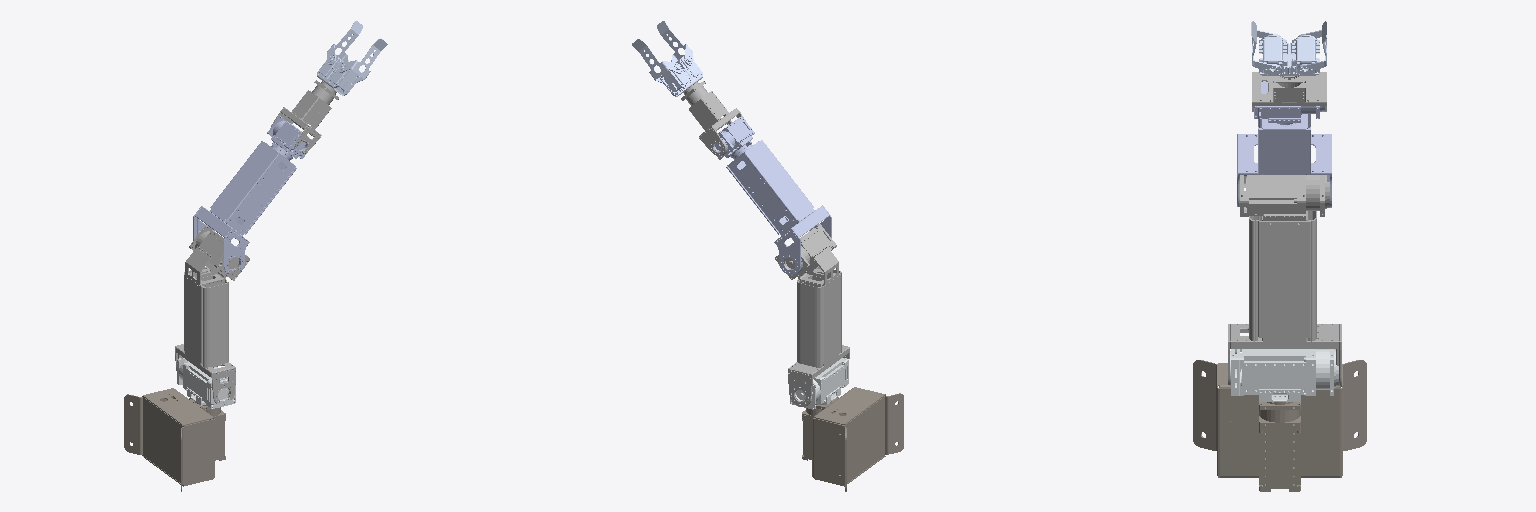
The robot description file, URDF, robot "h_arm_urdf":
<robot
  name="h_arm_urdf">
  <link
    name="arm_base_link">
    <inertial>
      <origin
        xyz="-0.025341 -0.00015693 0.00087354"
        rpy="0 0 0" />
      <mass
        value="1.6075" />
      <inertia
        ixx="0.0079143"
        ixy="-1.2323E-06"
        ixz="9.2385E-05"
        iyy="0.0053506"
        iyz="-7.6719E-06"
        izz="0.0072753" />
    </inertial>
    <visual>
      <origin
        xyz="0 0 0"
        rpy="0 0 0" />
      <geometry>
        <mesh
          filename="package://robotican_description/robot_arms/h_arm_urdfV3/meshes/arm_base_link.STL" />
      </geometry>
      <material
        name="">
        <color
          rgba="0.64706 0.61961 0.58824 1" />
      </material>
    </visual>
    <collision>
      <origin
        xyz="0 0 0"
        rpy="0 0 0" />
      <geometry>
        <mesh
          filename="package://robotican_description/robot_arms/h_arm_urdfV3/meshes/arm_base_link.STL" />
      </geometry>
    </collision>
  </link>
  <link
    name="arm_rotation1_link">
    <inertial>
      <origin
        xyz="-3.5191E-10 0.0073117 0.067899"
        rpy="0 0 0" />
      <mass
        value="0.35317" />
      <inertia
        ixx="0.00055596"
        ixy="9.2617E-12"
        ixz="9.2232E-12"
        iyy="0.00016945"
        iyz="6.1918E-06"
        izz="0.00055286" />
    </inertial>
    <visual>
      <origin
        xyz="0 0 0"
        rpy="0 0 0" />
      <geometry>
        <mesh
          filename="package://robotican_description/robot_arms/h_arm_urdfV3/meshes/arm_rotation1_link.STL" />
      </geometry>
      <material
        name="">
        <color
          rgba="0.89804 0.91765 0.92941 1" />
      </material>
    </visual>
    <collision>
      <origin
        xyz="0 0 0"
        rpy="0 0 0" />
      <geometry>
        <mesh
          filename="package://robotican_description/robot_arms/h_arm_urdfV3/meshes/arm_rotation1_link.STL" />
      </geometry>
    </collision>
  </link>
  <joint
    name="arm_rotation1_joint"
    type="revolute">
    <origin
      xyz="0.027 0 0.033"
      rpy="0 0 0" />
    <parent
      link="arm_base_link" />
    <child
      link="arm_rotation1_link" />
    <axis
      xyz="0 0 1" />
    <limit
      effort="0"
      velocity="0"
      lower="-1.57"
      upper="1.57"
     />
  </joint>
  <link
    name="arm_shoulder1_link">
    <inertial>
      <origin
        xyz="0.01628 -0.032683 0.20044"
        rpy="0 0 0" />
      <mass
        value="0.52217" />
      <inertia
        ixx="0.00437"
        ixy="-9.87E-07"
        ixz="0.00053636"
        iyy="0.0041046"
        iyz="-4.3615E-05"
        izz="0.00082919" />
    </inertial>
    <visual>
      <origin
        xyz="0 0 0"
        rpy="0 0 0" />
      <geometry>
        <mesh
          filename="package://robotican_description/robot_arms/h_arm_urdfV3/meshes/arm_shoulder1_link.STL" />
      </geometry>
      <material
        name="">
        <color
          rgba="0.75294 0.75294 0.75294 1" />
      </material>
    </visual>
    <collision>
      <origin
        xyz="0 0 0"
        rpy="0 0 0" />
      <geometry>
        <mesh
          filename="package://robotican_description/robot_arms/h_arm_urdfV3/meshes/arm_shoulder1_link.STL" />
      </geometry>
    </collision>
  </link>
  <joint
    name="arm_shoulder1_joint"
    type="revolute">
    <origin
      xyz="0 0.039 0.069"
      rpy="0 0 0" />
    <parent
      link="arm_rotation1_link" />
    <child
      link="arm_shoulder1_link" />
    <axis
      xyz="0 1 0" />
    <limit
      lower="0"
      upper="1.57"
      effort="0"
      velocity="0" />
  </joint>
  <link
    name="arm_shoulder2_link">
    <inertial>
      <origin
        xyz="-0.029807 -0.020675 0.12921"
        rpy="0 0 0" />
      <mass
        value="0.44964" />
      <inertia
        ixx="0.0013957"
        ixy="2.2944E-06"
        ixz="-9.6791E-06"
        iyy="0.0013155"
        iyz="-1.6943E-05"
        izz="0.0003579" />
    </inertial>
    <visual>
      <origin
        xyz="0 0 0"
        rpy="0 0 0" />
      <geometry>
        <mesh
          filename="package://robotican_description/robot_arms/h_arm_urdfV3/meshes/arm_shoulder2_link.STL" />
      </geometry>
      <material
        name="">
        <color
          rgba="0.79216 0.81961 0.93333 1" />
      </material>
    </visual>
    <collision>
      <origin
        xyz="0 0 0"
        rpy="0 0 0" />
      <geometry>
        <mesh
          filename="package://robotican_description/robot_arms/h_arm_urdfV3/meshes/arm_shoulder2_link.STL" />
      </geometry>
    </collision>
  </link>
  <joint
    name="arm_shoulder2_joint"
    type="revolute">
    <origin
      xyz="0.029998 -0.012 0.264"
      rpy="0 0.7853981634 0" />
    <parent
      link="arm_shoulder1_link" />
    <child
      link="arm_shoulder2_link" />
    <axis
      xyz="0 1 0" />
    <limit
      lower="-0.65"
      upper="2.3522"
      effort="0"
      velocity="0" />
  </joint>
  <link
    name="arm_rotation2_link">
    <inertial>
      <origin
        xyz="1.2931E-08 0.0043427 0.097839"
        rpy="0 0 0" />
      <mass
        value="0.14367" />
      <inertia
        ixx="0.00010361"
        ixy="-8.012E-11"
        ixz="2.2317E-12"
        iyy="4.3409E-05"
        iyz="1.1487E-06"
        izz="0.00010218" />
    </inertial>
    <visual>
      <origin
        xyz="0 0 0"
        rpy="0 0 0" />
      <geometry>
        <mesh
          filename="package://robotican_description/robot_arms/h_arm_urdfV3/meshes/arm_rotation2_link.STL" />
      </geometry>
      <material
        name="">
        <color
          rgba="0.79216 0.81961 0.93333 1" />
      </material>
    </visual>
    <collision>
      <origin
        xyz="0 0 0"
        rpy="0 0 0" />
      <geometry>
        <mesh
          filename="package://robotican_description/robot_arms/h_arm_urdfV3/meshes/arm_rotation2_link.STL" />
      </geometry>
    </collision>
  </link>
  <joint
    name="arm_rotation2_joint"
    type="revolute">
    <origin
      xyz="-0.03 -0.021 0.159"
      rpy="0 0 0" />
    <parent
      link="arm_shoulder2_link" />
    <child
      link="arm_rotation2_link" />
    <axis
      xyz="0 0 1" />
    <limit
      lower="-3.14"
      upper="3.14"
      effort="0"
      velocity="0" />
  </joint>
  <link
    name="arm_shoulder3_link">
    <inertial>
      <origin
        xyz="3.9349E-11 -0.044252 0.069689"
        rpy="0 0 0" />
      <mass
        value="0.15954" />
      <inertia
        ixx="0.00018198"
        ixy="2.101E-13"
        ixz="-2.3374E-13"
        iyy="0.00015335"
        iyz="-5.6341E-06"
        izz="7.5641E-05" />
    </inertial>
    <visual>
      <origin
        xyz="0 0 0"
        rpy="0 0 0" />
      <geometry>
        <mesh
          filename="package://robotican_description/robot_arms/h_arm_urdfV3/meshes/arm_shoulder3_link.STL" />
      </geometry>
      <material
        name="">
        <color
          rgba="0.75294 0.75294 0.75294 1" />
      </material>
    </visual>
    <collision>
      <origin
        xyz="0 0 0"
        rpy="0 0 0" />
      <geometry>
        <mesh
          filename="package://robotican_description/robot_arms/h_arm_urdfV3/meshes/arm_shoulder3_link.STL" />
      </geometry>
    </collision>
  </link>
  <joint
    name="arm_shoulder3_joint"
    type="revolute">
    <origin
      xyz="0 0.051 0.099"
      rpy="0 0 0" />
    <parent
      link="arm_rotation2_link" />
    <child
      link="arm_shoulder3_link" />
    <axis
      xyz="0 1 0" />
    <limit
      lower="-1.57"
      upper="1.57"
      effort="0"
      velocity="0" />
  </joint>
  <link
    name="arm_wrist_link">
    <inertial>
      <origin
        xyz="2.0891E-05 6.5048E-10 0.030365"
        rpy="0 0 0" />
      <mass
        value="0.70734" />
      <inertia
        ixx="0.00048369"
        ixy="3.6682E-12"
        ixz="-3.0001E-06"
        iyy="0.00020635"
        iyz="5.4223E-12"
        izz="0.00043266" />
    </inertial>
    <visual>
      <origin
        xyz="0 0 0"
        rpy="0 0 0" />
      <geometry>
        <mesh
          filename="package://robotican_description/robot_arms/h_arm_urdfV3/meshes/arm_wrist_link.STL" />
      </geometry>
      <material
        name="">
        <color
          rgba="0.86667 0.9098 1 1" />
      </material>
    </visual>
    <collision>
      <origin
        xyz="0 0 0"
        rpy="0 0 0" />
      <geometry>
        <mesh
          filename="package://robotican_description/robot_arms/h_arm_urdfV3/meshes/arm_wrist_link.STL" />
      </geometry>
    </collision>
  </link>
  <joint
    name="arm_wrist_joint"
    type="revolute">
    <origin
      xyz="0 -0.045 0.123"
      rpy="0 0 0" />
    <parent
      link="arm_shoulder3_link" />
    <child
      link="arm_wrist_link" />
    <axis
      xyz="0 0 1" />
    <limit
      lower="-3.14"
      upper="3.14"
      effort="0"
      velocity="0" />
  </joint>
 <link
    name="gripper_r_link">
    <inertial>
      <origin
        xyz="-2.7756E-17 0.014873 0.033361"
        rpy="0 0 0" />
      <mass
        value="0.011198" />
      <inertia
        ixx="9.7735E-06"
        ixy="-9.7742E-22"
        ixz="9.8678E-21"
        iyy="1.1665E-05"
        iyz="7.8401E-07"
        izz="3.3484E-06" />
    </inertial>
    <visual>
      <origin
        xyz="0 0.02471 0.02073"
        rpy="0 0 0" />
      <geometry>
        <mesh
          filename="package://robotican_description/robot_arms/h_arm_urdfV3/meshes/gripper_r_link.STL" />
      </geometry>
      <material
        name="">
        <color
          rgba="0.86667 0.9098 1 1" />
      </material>
    </visual>
    <collision>
      <origin
        xyz="0 0 0"
        rpy="0 0 0" />
      <geometry>
        <mesh
          filename="package://robotican_description/robot_arms/h_arm_urdfV3/meshes/gripper_r_link.STL" />
      </geometry>
    </collision>
  </link>
  <joint
    name="gripper_r_joint"
    type="revolute">
    <origin
      xyz="0 0.021 0.04225"
      rpy="-0.1 0 0" />
    <parent
      link="arm_wrist_link" />
    <child
      link="gripper_r_link" />
    <axis
      xyz="-1 0 0" />
    <limit
      lower="-1.0"
      upper="0.4"
      effort="0"
      velocity="0" />
  </joint>
  <link
    name="gripper_l_link">
    <inertial>
      <origin
        xyz="-3.6429E-17 -0.014873 0.033361"
        rpy="0 0 0" />
      <mass
        value="0.011198" />
      <inertia
        ixx="9.7735E-06"
        ixy="1.7627E-21"
        ixz="-5.8868E-21"
        iyy="1.1665E-05"
        iyz="-7.8401E-07"
        izz="3.3484E-06" />
    </inertial>
    <visual>
      <origin
        xyz="0 -0.02471 0.02073"
        rpy="0 0 0" />
      <geometry>
        <mesh
          filename="package://robotican_description/robot_arms/h_arm_urdfV3/meshes/gripper_l_link.STL" />
      </geometry>
      <material
        name="">
        <color
          rgba="0.86667 0.9098 1 1" />
      </material>
    </visual>
    <collision>
      <origin
        xyz="0 0 0"
        rpy="0 0 0" />
      <geometry>
        <mesh
          filename="package://robotican_description/robot_arms/h_arm_urdfV3/meshes/gripper_l_link.STL" />
      </geometry>
    </collision>
  </link>
  <joint
    name="gripper_l_joint"
    type="revolute">
    <origin
      xyz="0 -0.021 0.04225"
      rpy="0.1 0 0" />
    <parent
      link="arm_wrist_link" />
    <child
      link="gripper_l_link" />
    <axis
      xyz="-1 0 0" />
    <limit
      lower="-0.4"
      upper="1.0"
      effort="0"
      velocity="0" />
  </joint>
</robot>

--- What the picture shows (computed from the rendered views, not written in the file) ---
Views: 3 orthographic renders of the robot side by side, from view 1: azimuth 30°, elevation 25°; view 2: azimuth 150°, elevation 25°; view 3: azimuth 270°, elevation 25°.
Model h_arm_urdf with 9 links and 8 joints (8 revolute), rooted at arm_base_link, posed all joints at 0.
Visible links, largest first — view 1: arm_base_link, arm_shoulder1_link, arm_shoulder2_link, arm_shoulder3_link, arm_rotation1_link, arm_wrist_link, arm_rotation2_link, gripper_l_link; view 2: arm_base_link, arm_shoulder1_link, arm_shoulder2_link, arm_shoulder3_link, arm_rotation1_link, arm_wrist_link, arm_rotation2_link, gripper_r_link, gripper_l_link; view 3: arm_base_link, arm_shoulder1_link, arm_rotation1_link, arm_shoulder2_link, arm_shoulder3_link, arm_wrist_link, arm_rotation2_link.
Link boxes in pixels (box(x1,y1,x2,y2)): arm_base_link: box(124, 388, 225, 491); arm_shoulder1_link: box(175, 225, 249, 402); arm_shoulder2_link: box(193, 141, 296, 273); arm_shoulder3_link: box(271, 80, 338, 153); arm_rotation1_link: box(177, 358, 235, 408); arm_wrist_link: box(317, 56, 359, 95); arm_rotation2_link: box(267, 116, 308, 158); gripper_l_link: box(337, 38, 387, 82); arm_base_link: box(802, 387, 903, 491); arm_shoulder1_link: box(775, 224, 849, 406); arm_shoulder2_link: box(726, 140, 831, 275); arm_shoulder3_link: box(681, 81, 745, 155); arm_rotation1_link: box(790, 358, 848, 409); arm_wrist_link: box(659, 56, 702, 96); arm_rotation2_link: box(713, 116, 754, 159); gripper_r_link: box(632, 39, 682, 83); gripper_l_link: box(657, 21, 693, 64); arm_base_link: box(1193, 360, 1366, 491); arm_shoulder1_link: box(1228, 175, 1341, 386); arm_rotation1_link: box(1230, 349, 1338, 401); arm_shoulder2_link: box(1237, 114, 1331, 207); arm_shoulder3_link: box(1252, 61, 1326, 111); arm_wrist_link: box(1259, 35, 1319, 75); arm_rotation2_link: box(1254, 81, 1324, 122).
Bounding box of the posed robot: 0.4991 × 0.2206 × 0.8223 m (x, y, z).
9 mesh visuals loaded from 9 distinct referenced files (9 binary STL).